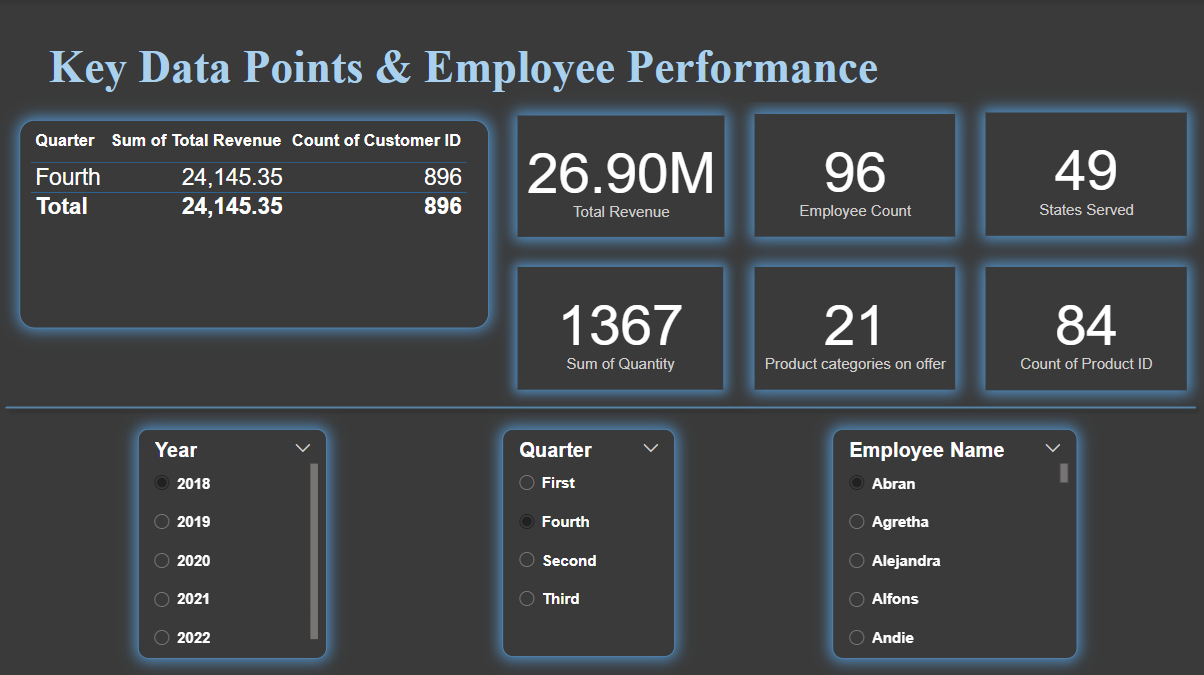

The dashboard page shown, as its layout file describes it:
{"tool":"powerbi","page":{"name":"Key Data Points & Employee Performance","canvas":[1280,720],"ordinal":0},"visuals":[{"type":"card","fields":{"Values":["Sales Employee Details.Employee Count"]},"box":[802.6,120.8,213,130.3],"z":0},{"type":"textbox","box":[37.8,37.8,1028,69.9],"z":1000},{"type":"tableEx","fields":{"Values":["Transaction Data.Quarter","Sales Data.Total Revenue","Customer Data.Customer ID"]},"box":[23.8,127.2,497.5,220.9],"z":2000},{"type":"shape","box":[0,340.2,1279.4,183.3],"z":3000},{"type":"card","fields":{"Values":["Sales Data.Total Revenue"]},"box":[551.5,122.4,219.3,128.7],"z":4000},{"type":"slicer","fields":{"Values":["Transaction Data.Quarter"]},"box":[535.6,454.6,182.8,241.6],"z":5000},{"type":"card","fields":{"Values":["Product Data.Product categories on offer"]},"box":[802.6,282.9,213,130.3],"z":6000},{"type":"card","fields":{"Values":["Product Data.Product ID"]},"box":[1046.9,283.5,213.5,130.4],"z":7000},{"type":"card","fields":{"Values":["Customer Data.States Served"]},"box":[1046.9,119.1,213.5,130.4],"z":8000},{"type":"card","fields":{"Values":["Sales Data.Quantity"]},"box":[551.5,282.9,217.7,130.3],"z":9000},{"type":"slicer","fields":{"Values":["Sales Employee Details.first_name"]},"box":[885.3,454.6,259.1,243.2],"z":10000},{"type":"slicer","fields":{"Values":["Transaction Data.Year"]},"box":[149.4,454.6,200.3,243.2],"z":11000}]}

Visuals, with their boxes in screenshot pixels (x1, y1, x2, y2), scaled from the page's 1280x720 canvas onto the 1204x675 screenshot:
card - Sales Employee Details.Employee Count: 755, 113, 955, 235
textbox: 36, 35, 1003, 101
tableEx - Transaction Data.Quarter x Sales Data.Total Revenue: 22, 119, 490, 326
shape: 0, 319, 1203, 491
card - Sales Data.Total Revenue: 519, 115, 725, 235
slicer - Transaction Data.Quarter: 504, 426, 676, 653
card - Product Data.Product categories on offer: 755, 265, 955, 387
card - Product Data.Product ID: 985, 266, 1186, 388
card - Customer Data.States Served: 985, 112, 1186, 234
card - Sales Data.Quantity: 519, 265, 724, 387
slicer - Sales Employee Details.first_name: 833, 426, 1076, 654
slicer - Transaction Data.Year: 141, 426, 329, 654
